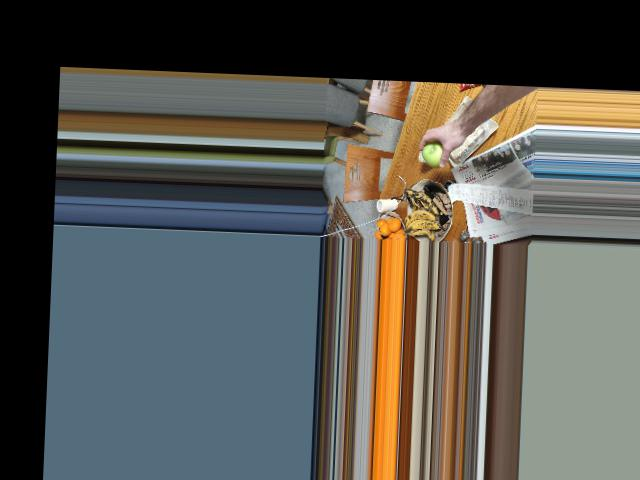apple: (421, 134, 452, 169)
